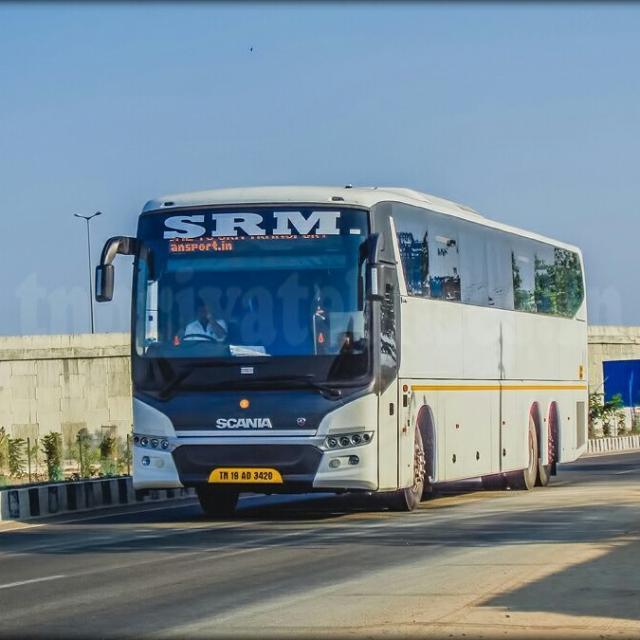Bus: (90, 181, 595, 512)
